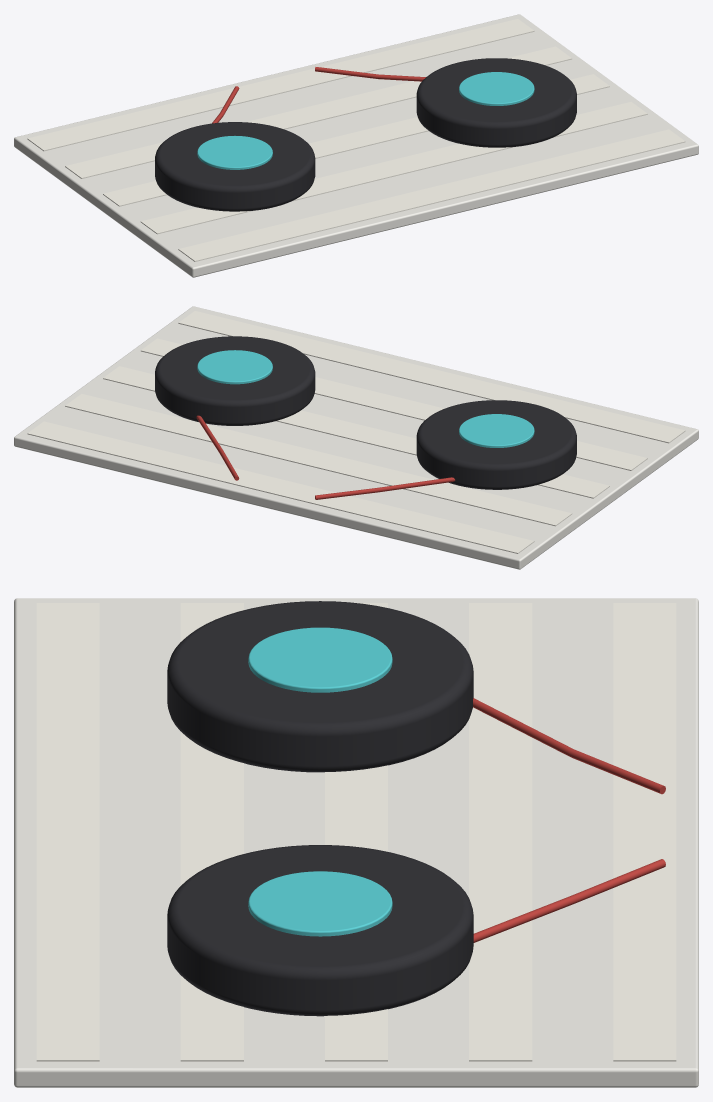
File: haptic_pucks.glb
3 renders of one model, top to bottom at view 1: azimuth 30°, elevation 25°; view 2: azimuth 150°, elevation 25°; view 3: azimuth 270°, elevation 25°, orthographic. The views are drawn at different scales.
Parts seen in each view (by area): view 1: Board, Puck1, Puck0, Tape0, Tape4, Tape1, Tape3, Tape2, Face0, Face1, Lead1; view 2: Board, Puck1, Puck0, Tape4, Tape3, Tape0, Tape2, Tape1, Face1, Face0, Lead0; view 3: Board, Puck1, Puck0, Tape0, Tape4, Tape3, Tape1, Tape2, Face0, Face1, Lead0, Lead1.
Boxes of the visible parts, box(x1,y1,x2,y2) form: Board: box(14, 14, 698, 277); Puck1: box(416, 58, 576, 147); Puck0: box(155, 122, 315, 211); Tape0: box(178, 129, 685, 261); Tape4: box(27, 19, 534, 151); Tape1: box(140, 101, 647, 234); Tape3: box(65, 46, 572, 178); Tape2: box(103, 74, 609, 206); Face0: box(197, 135, 272, 169); Face1: box(459, 72, 534, 105); Lead1: box(315, 67, 425, 81); Board: box(14, 306, 698, 569); Puck1: box(155, 336, 315, 425); Puck0: box(416, 400, 576, 489); Tape4: box(27, 421, 534, 553); Tape3: box(65, 393, 572, 526); Tape0: box(178, 311, 685, 443); Tape2: box(103, 366, 609, 498); Tape1: box(140, 338, 647, 470); Face1: box(197, 350, 272, 384); Face0: box(459, 414, 534, 447); Lead0: box(315, 477, 455, 499); Board: box(14, 598, 698, 1087); Puck1: box(167, 845, 473, 1016); Puck0: box(167, 601, 473, 772); Tape0: box(36, 603, 99, 1061); Tape4: box(613, 603, 676, 1061); Tape3: box(469, 603, 532, 1061); Tape1: box(180, 603, 243, 1061); Tape2: box(325, 603, 387, 1061); Face0: box(248, 627, 392, 692); Face1: box(248, 871, 392, 936); Lead0: box(473, 698, 665, 794); Lead1: box(473, 859, 665, 942).
Size of the model in its own units: 0.62 by 0.045 by 0.38.
